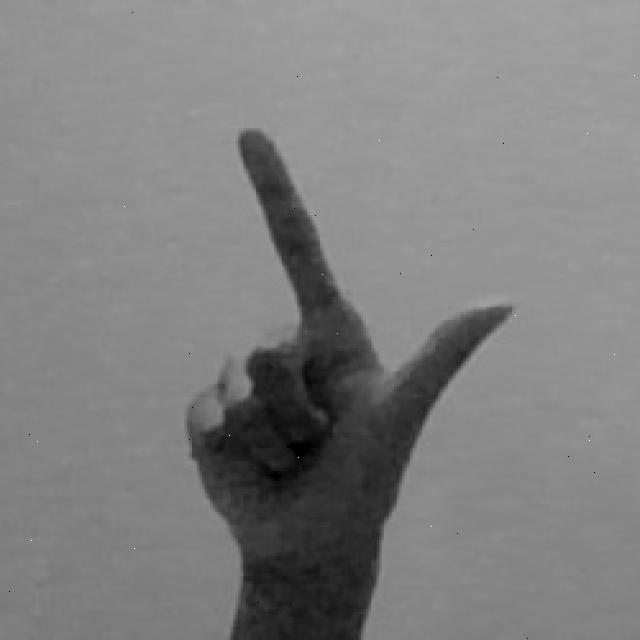L: (172, 123, 514, 640)
